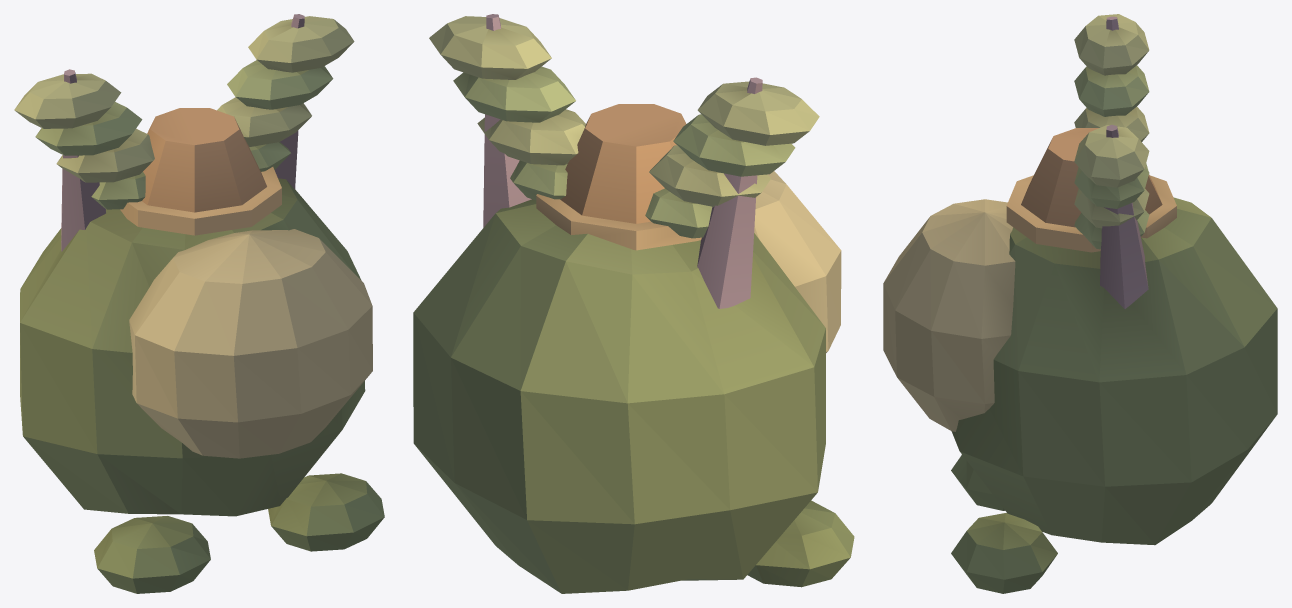
Rendered from duel_keeper_root.glb.
3 renders of one model, left to right at view 1: azimuth 30°, elevation 25°; view 2: azimuth 150°, elevation 25°; view 3: azimuth 270°, elevation 25°, orthographic. The views are drawn at different scales.
Visible parts, largest first — view 1: keeper_root; view 2: keeper_root; view 3: keeper_root.
Boxes of the visible parts, bbox=[...] form: keeper_root: bbox=[14, 14, 384, 593]; keeper_root: bbox=[413, 14, 854, 593]; keeper_root: bbox=[883, 14, 1277, 593].
Bounding box in the file's own units: 1.12 × 1.55 × 1.18.
